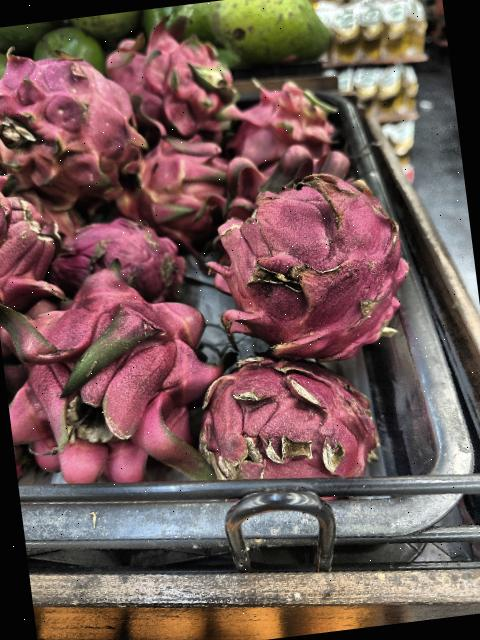buah-naga-matang: (0, 261, 233, 496), (191, 162, 416, 362), (190, 340, 372, 499), (0, 30, 149, 204), (99, 127, 253, 259), (103, 9, 248, 140), (54, 206, 189, 310), (230, 68, 344, 178), (0, 163, 69, 306)
